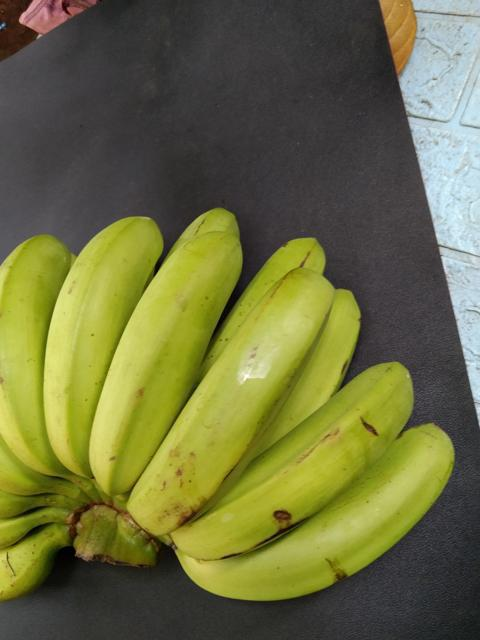freshunripe: (158, 420, 454, 607), (84, 222, 253, 501), (45, 208, 160, 468), (0, 231, 66, 476)
unripe: (135, 261, 348, 521), (184, 360, 415, 560)
